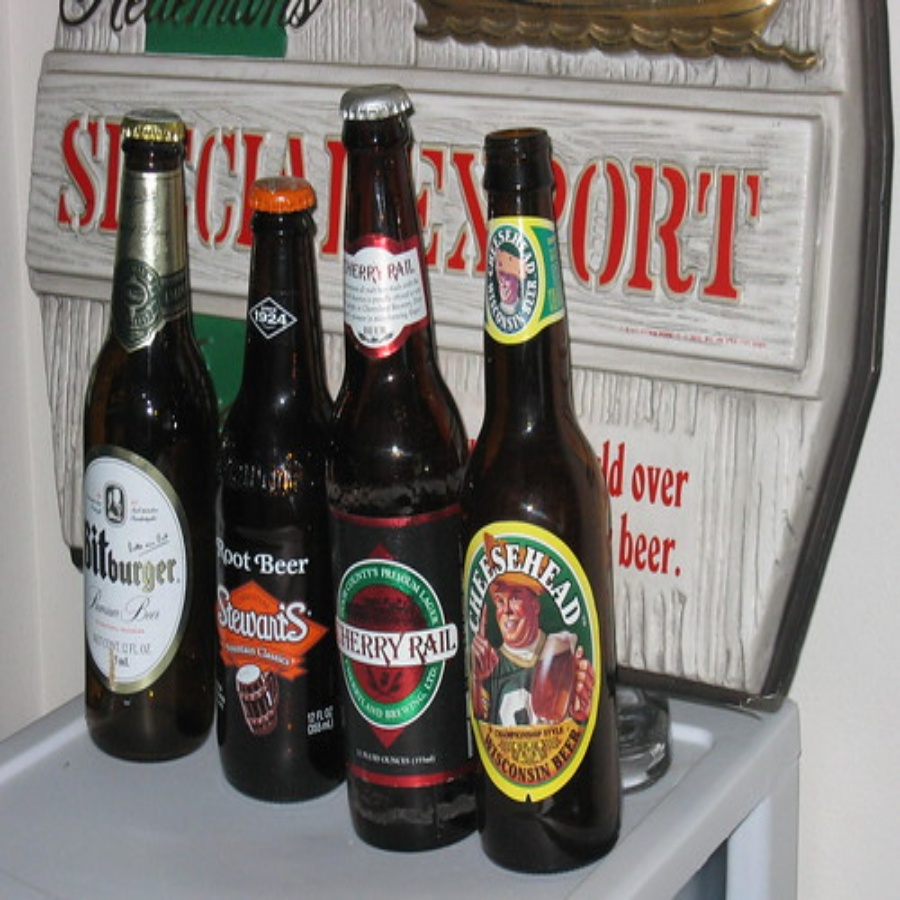beer: (457, 113, 623, 872), (341, 83, 448, 859), (89, 107, 212, 767), (219, 181, 330, 809)
